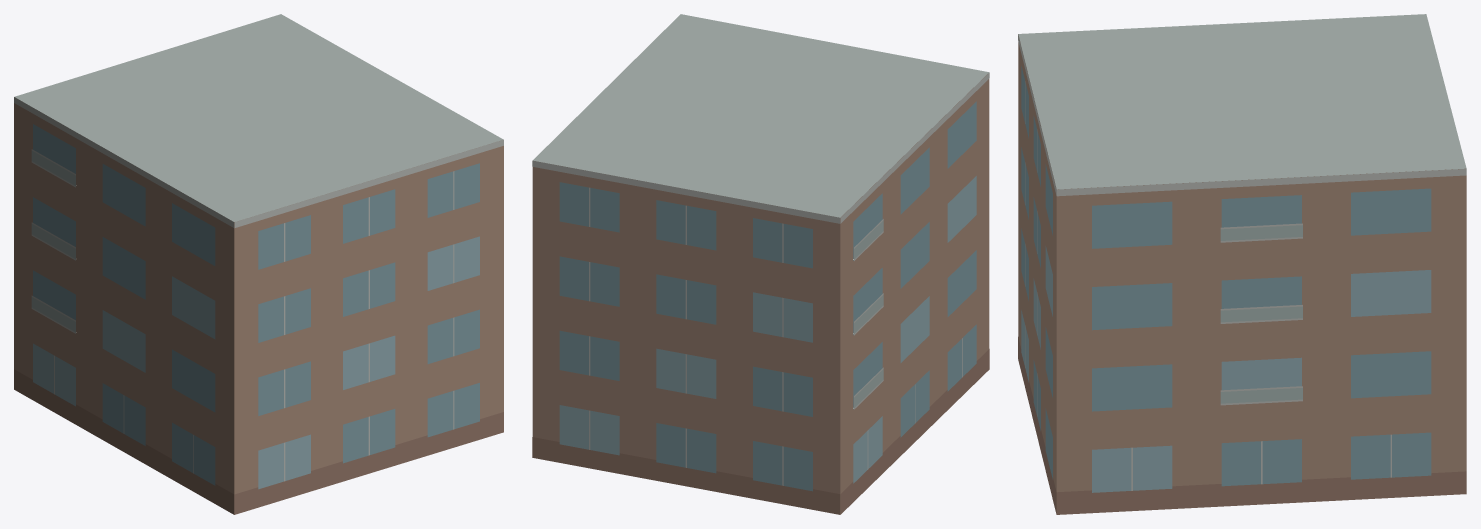
File: survey-upis-32610825.glb
3 views of the same model, side by side, from view 1: azimuth 30°, elevation 25°; view 2: azimuth 150°, elevation 25°; view 3: azimuth 270°, elevation 25° (orthographic). The views are drawn at different scales.
Parts seen in each view (by area): view 1: survey-upis-32610825.tmp; view 2: survey-upis-32610825.tmp; view 3: survey-upis-32610825.tmp.
Boxes of the visible parts, box(x1,y1,x2,y2) form: survey-upis-32610825.tmp: box(14, 14, 503, 514); survey-upis-32610825.tmp: box(532, 14, 989, 514); survey-upis-32610825.tmp: box(1018, 14, 1466, 514).
Size of the model in its own units: 13.54 by 11.7 by 14.62.
